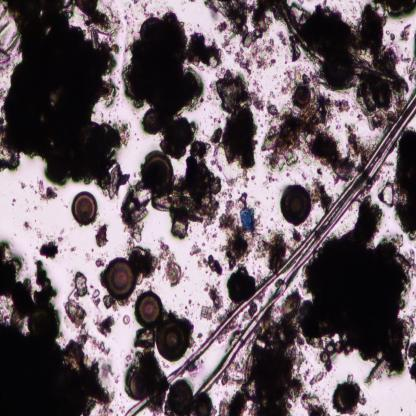Background material: (0, 1, 125, 197), (300, 198, 416, 379), (0, 239, 111, 415), (127, 9, 196, 158), (240, 293, 301, 414), (264, 96, 344, 166), (210, 71, 265, 170), (206, 0, 275, 68), (184, 142, 221, 220), (221, 197, 253, 269), (396, 127, 416, 239), (137, 350, 169, 414), (125, 239, 162, 285), (359, 85, 399, 127), (187, 31, 223, 71), (279, 184, 312, 225), (257, 231, 286, 272), (344, 123, 373, 160), (308, 178, 332, 212), (63, 298, 86, 332), (302, 390, 329, 416), (32, 179, 60, 202), (38, 238, 60, 262), (222, 170, 254, 186), (72, 270, 89, 300), (134, 328, 156, 350), (208, 285, 224, 313), (95, 222, 110, 250), (287, 36, 302, 63), (96, 316, 115, 337), (158, 240, 176, 262), (172, 218, 190, 240), (207, 255, 224, 277), (126, 223, 144, 242), (382, 181, 395, 206), (262, 168, 278, 186), (204, 221, 218, 240), (400, 20, 412, 42), (209, 127, 223, 144), (91, 287, 101, 308), (190, 242, 203, 257), (249, 300, 258, 318), (289, 231, 302, 243), (95, 256, 106, 268), (187, 300, 193, 316), (18, 178, 26, 190), (23, 221, 32, 231), (198, 260, 207, 269), (198, 330, 204, 340), (318, 169, 324, 177)
Cellulose filter fibre: (277, 0, 410, 92)
Diatom: (104, 256, 136, 300), (151, 191, 204, 217), (141, 152, 174, 192), (158, 320, 188, 360), (134, 290, 164, 326), (333, 380, 362, 414), (72, 190, 98, 226), (168, 378, 193, 415), (121, 190, 149, 223), (226, 270, 256, 300), (320, 336, 346, 366), (126, 369, 150, 401), (365, 357, 389, 386), (192, 392, 216, 416), (141, 108, 161, 135), (107, 160, 121, 198), (163, 262, 181, 285), (334, 162, 357, 180), (294, 85, 310, 107), (200, 305, 212, 320), (122, 314, 130, 326)
Fragment: (238, 206, 257, 233)
